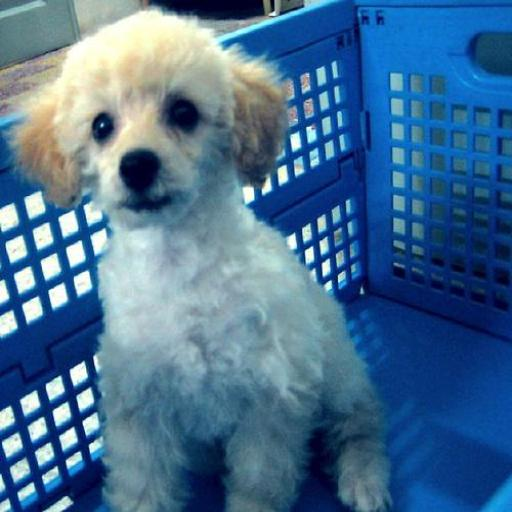dog_face: (18, 19, 282, 227)
